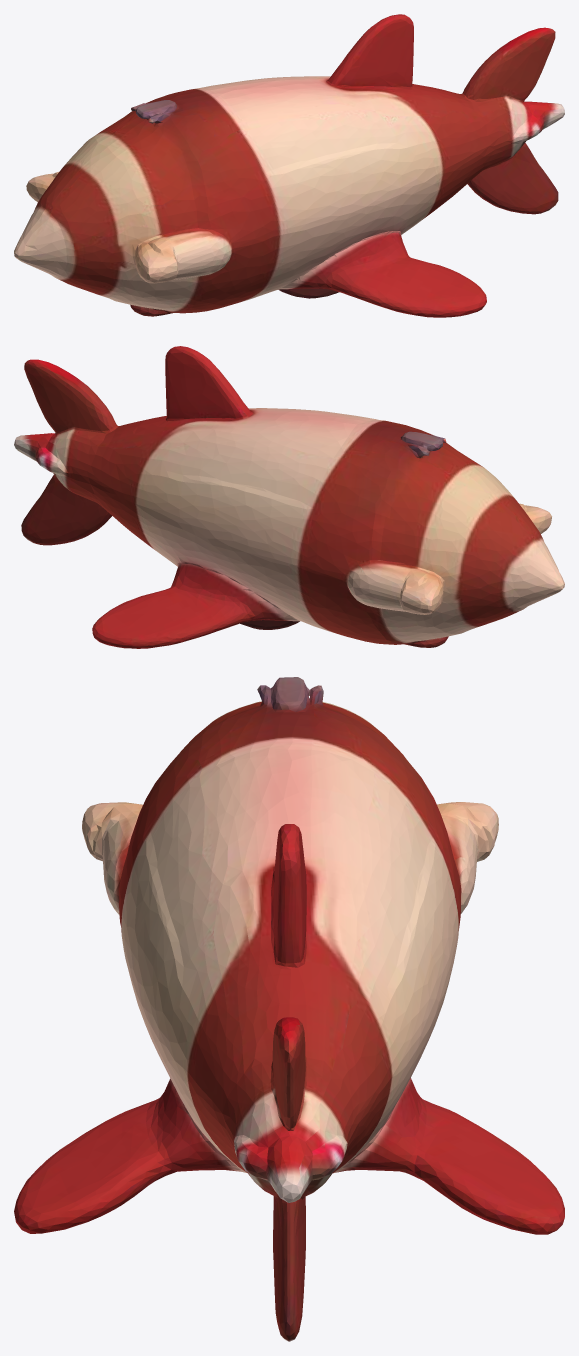
File: rocket.glb
3 views of the same model, one above another, from view 1: azimuth 30°, elevation 25°; view 2: azimuth 150°, elevation 25°; view 3: azimuth 270°, elevation 25° (orthographic). The views are drawn at different scales.
Visible parts, largest first — view 1: tmpo9kykkxz.ply; view 2: tmpo9kykkxz.ply; view 3: tmpo9kykkxz.ply.
Part boxes in pixels (<box>): tmpo9kykkxz.ply: <box>14,14,564,317</box>; tmpo9kykkxz.ply: <box>14,346,564,648</box>; tmpo9kykkxz.ply: <box>14,677,564,1341</box>.
Bounding box in the file's own units: 0.5 × 0.229 × 0.261.
1 material, 1 textured.
